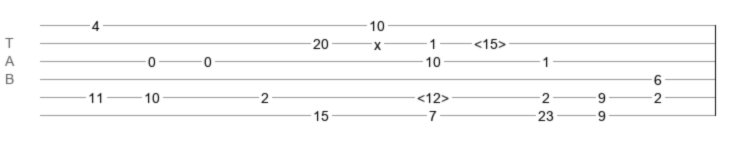0: (148, 54, 156, 64), (204, 54, 212, 64)
1: (429, 36, 437, 46), (542, 54, 550, 64)
10: (144, 90, 160, 100), (369, 18, 385, 28), (425, 54, 441, 64)
11: (88, 90, 104, 100)
15: (313, 108, 329, 118)
2: (261, 90, 269, 100), (542, 90, 550, 100), (654, 90, 662, 100)
20: (313, 36, 329, 46)
23: (538, 108, 554, 118)
4: (92, 18, 100, 28)
6: (654, 72, 662, 82)
7: (429, 108, 437, 118)
9: (598, 90, 606, 100), (598, 108, 606, 118)
harmonic: (417, 90, 449, 100), (474, 36, 506, 46)
x: (374, 37, 381, 45)
